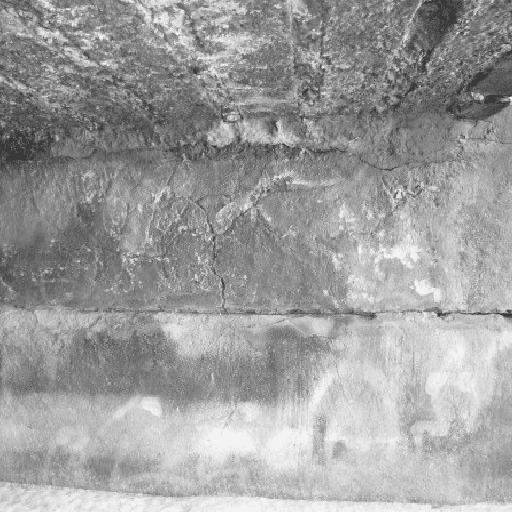Concrete: (1, 309, 512, 505)
Crack: (10, 307, 512, 336), (195, 187, 277, 310), (173, 137, 447, 172)
Spalling: (1, 1, 512, 313), (1, 1, 512, 162)
